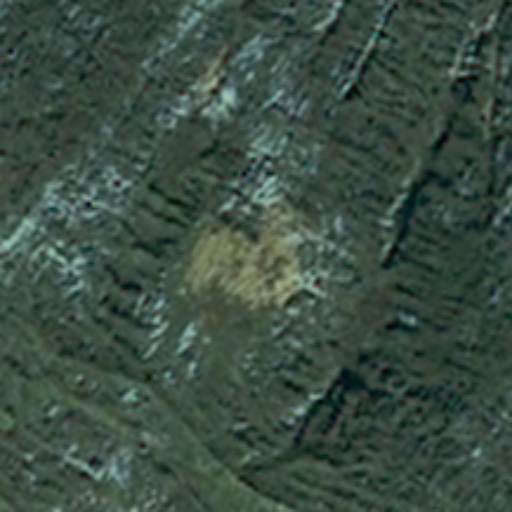landslide: (185, 220, 305, 309)
